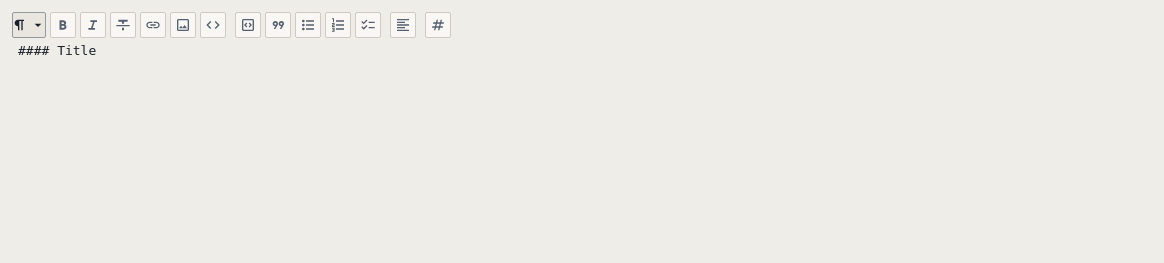
Scenario: EditorToolbar › removes a heading through Paragraph and restores editor focus
This screenshot has width=1164, height=263.
Click the button named "Text style". click: (29, 25)
box: [12,12,46,38]
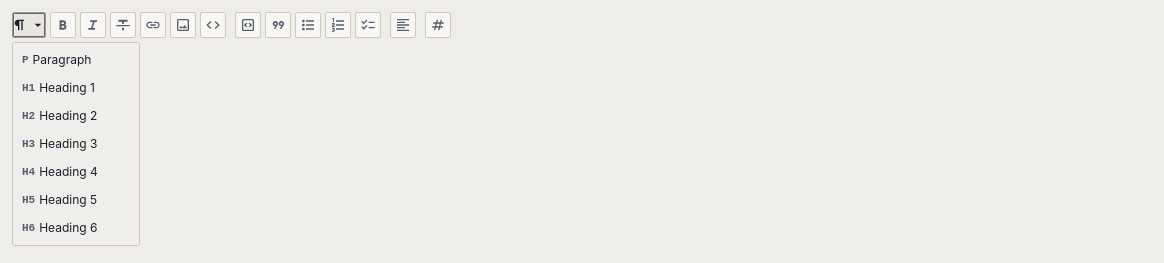
Click the menu item "P Paragraph". click: (76, 60)
box: [16,46,136,74]
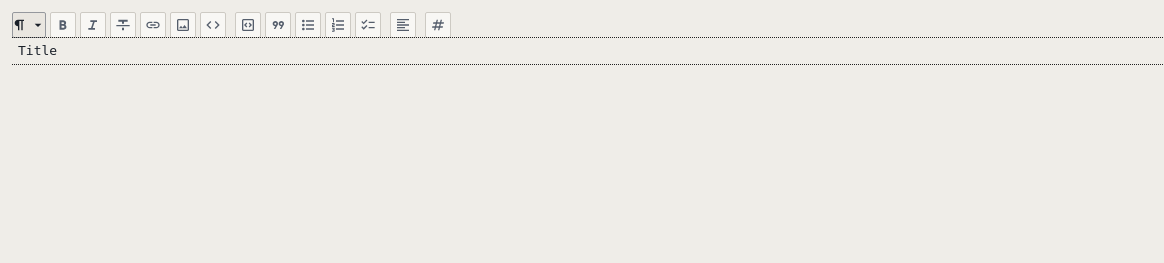
Expected: the text box labelled "Title" is shown, [18,43,57,58]
